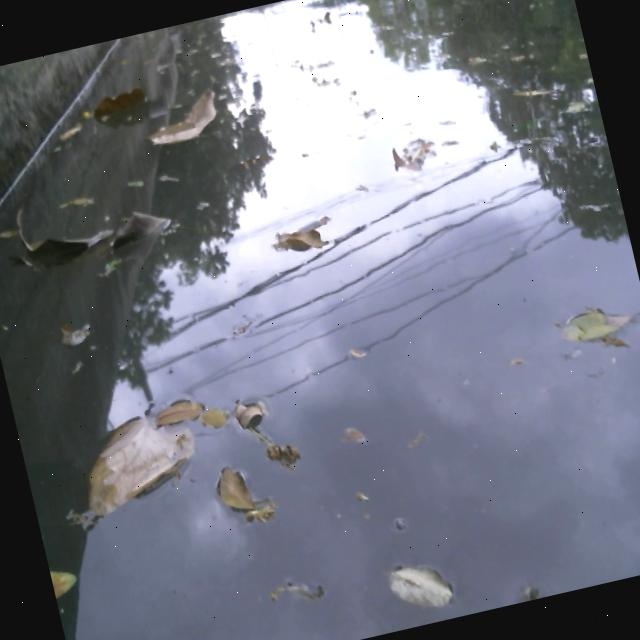Big-leaf: (61, 399, 216, 531), (8, 200, 117, 285), (133, 77, 236, 157), (98, 195, 183, 258), (88, 80, 150, 132)
Small-leaf: (548, 288, 640, 361), (381, 544, 458, 616), (266, 208, 335, 267), (210, 455, 263, 515), (382, 129, 440, 178), (226, 383, 280, 434), (151, 390, 210, 434), (47, 550, 90, 603), (262, 433, 310, 480), (50, 315, 101, 352), (197, 397, 232, 436), (340, 337, 374, 367), (340, 420, 368, 451)
